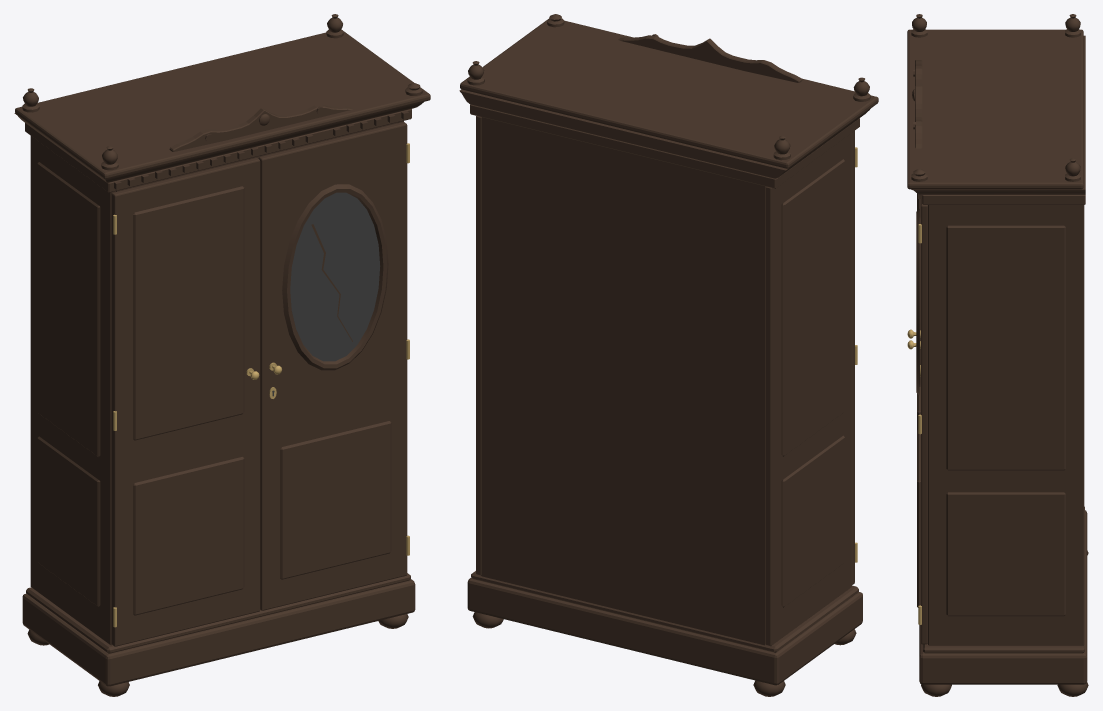
File: wardrobe.glb
3 renders of one model, left to right at view 1: azimuth 30°, elevation 25°; view 2: azimuth 150°, elevation 25°; view 3: azimuth 270°, elevation 25°, orthographic. The views are drawn at different scales.
Parts seen in each view (by area): view 1: wardrobe_static, MOV_wardrobe_door_l, MOV_wardrobe_door_r; view 2: wardrobe_static, MOV_wardrobe_door_l; view 3: wardrobe_static, MOV_wardrobe_door_r, MOV_wardrobe_door_l.
Boxes of the visible parts, box(x1,y1,x2,y2) form: wardrobe_static: box(14, 14, 430, 696); MOV_wardrobe_door_l: box(111, 158, 260, 646); MOV_wardrobe_door_r: box(258, 122, 409, 610); wardrobe_static: box(459, 14, 878, 696); MOV_wardrobe_door_l: box(851, 130, 857, 584); wardrobe_static: box(907, 14, 1088, 696); MOV_wardrobe_door_r: box(907, 199, 927, 644); MOV_wardrobe_door_l: box(907, 193, 920, 430).
Size of the model in its own units: 1.29 by 2.11 by 0.6375.
